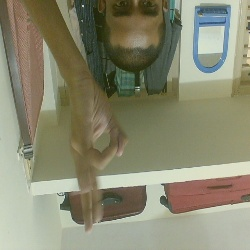hand: (53, 81, 137, 236)
